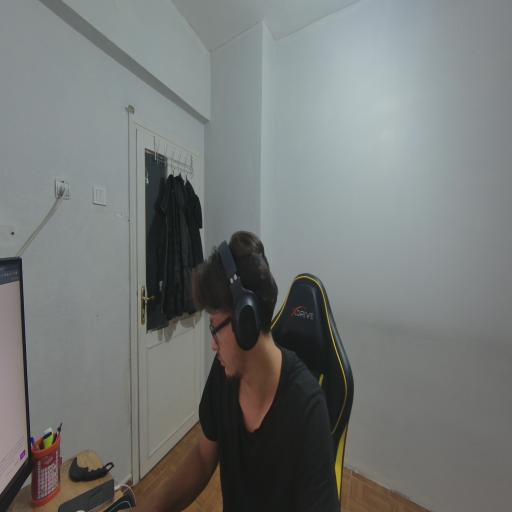cuma-face-v2: (198, 232, 296, 390)
